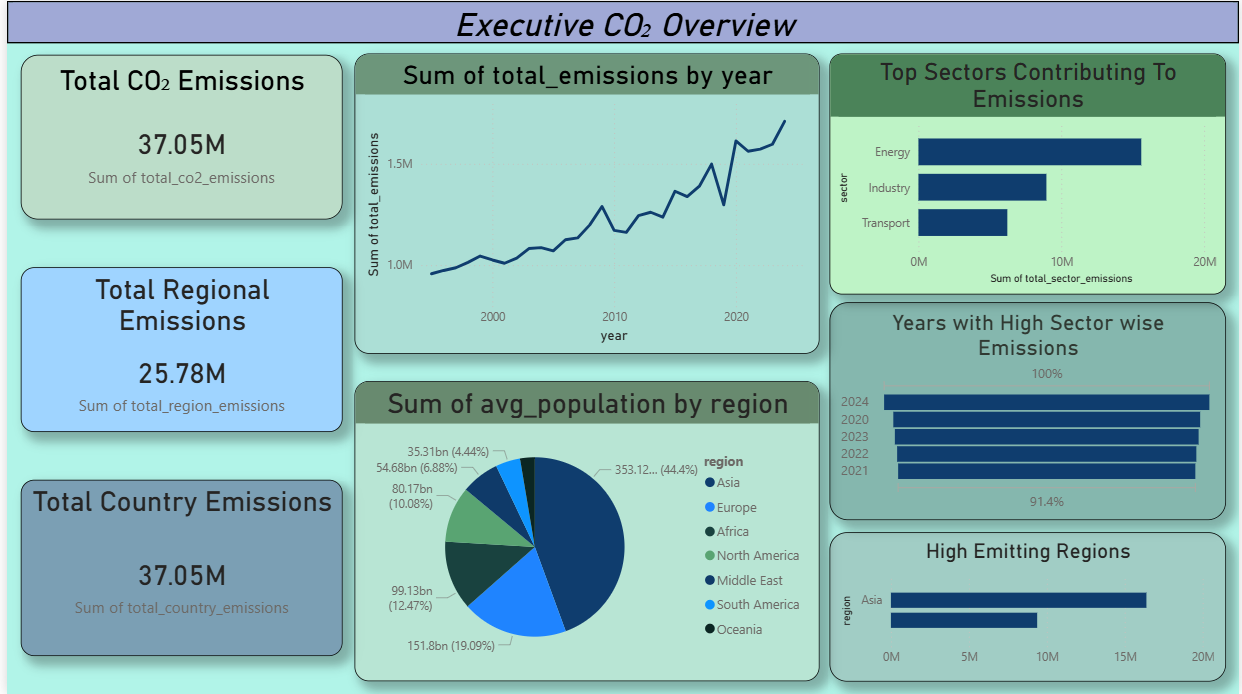

The dashboard page shown, as its layout file describes it:
{"tool":"powerbi","page":{"name":"ExecutiveOverview","canvas":[1280,720],"ordinal":0},"visuals":[{"type":"textbox","title":"Executive CO₂ Overview","box":[0,0,1280,44.3],"z":0},{"type":"card","title":"Total CO₂ Emissions","fields":{"Values":["Sum(yearly_emissions_trend.total_co2_emissions)"]},"box":[14.3,55.7,334.3,171.4],"z":1000},{"type":"card","title":"Total Regional Emissions","fields":{"Values":["Sum(high_emission_regions.total_region_emissions)"]},"box":[14.3,277.1,334.3,171.4],"z":2000},{"type":"card","title":"Total Country Emissions","fields":{"Values":["Sum(country_emissions_summary.total_country_emissions)"]},"box":[14.3,497.1,334.3,182.9],"z":3000},{"type":"lineChart","fields":{"Category":["dim_year.year"],"Y":["Sum(population_emission_correlation.total_emissions)"]},"box":[361.7,55,483.3,311.7],"z":4000},{"type":"pieChart","fields":{"Category":["economic_emissions_analysis.region"],"Y":["Sum(economic_emissions_analysis.avg_population)"]},"box":[361.7,395,483.3,311.7],"z":5000},{"type":"funnel","title":"Years with High Sector wise Emissions","fields":{"Category":["sector_emissions_summary.year"],"Y":["Sum(sector_emissions_summary.total_sector_emissions)"]},"box":[855,313.3,411.7,226.7],"z":6000},{"type":"barChart","title":"Top Sectors Contributing To Emissions","fields":{"Category":["sector_emissions_summary.sector"],"Y":["Sum(sector_emissions_summary.total_sector_emissions)"]},"box":[855,55,411.7,250],"z":7000},{"type":"barChart","title":"High Emitting Regions","fields":{"Category":["economic_emissions_analysis.region"],"Y":["Sum(economic_emissions_analysis.total_emissions)"]},"box":[855,551.7,411.7,155],"z":8000}]}

Visuals, with their boxes in screenshot pixels (x1, y1, x2, y2), scaled from the page's 1280x720 canvas onto the 1242x694 screenshot:
"Executive CO₂ Overview" textbox: box(0, 0, 1241, 43)
"Total CO₂ Emissions" card: box(14, 54, 338, 219)
"Total Regional Emissions" card: box(14, 267, 338, 432)
"Total Country Emissions" card: box(14, 479, 338, 655)
lineChart - dim_year.year x Sum(population_emission_correlation.total_emissions): box(351, 53, 820, 353)
pieChart - economic_emissions_analysis.region x Sum(economic_emissions_analysis.avg_population): box(351, 381, 820, 681)
"Years with High Sector wise Emissions" funnel: box(830, 302, 1229, 520)
"Top Sectors Contributing To Emissions" barChart: box(830, 53, 1229, 294)
"High Emitting Regions" barChart: box(830, 532, 1229, 681)
